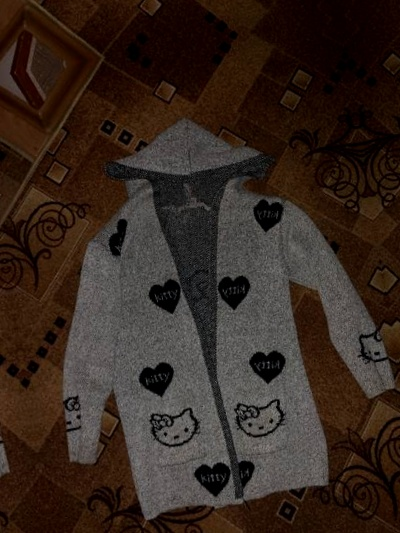Hoodie: (14, 69, 400, 533), (359, 10, 400, 496), (0, 136, 24, 533), (0, 0, 319, 23)
